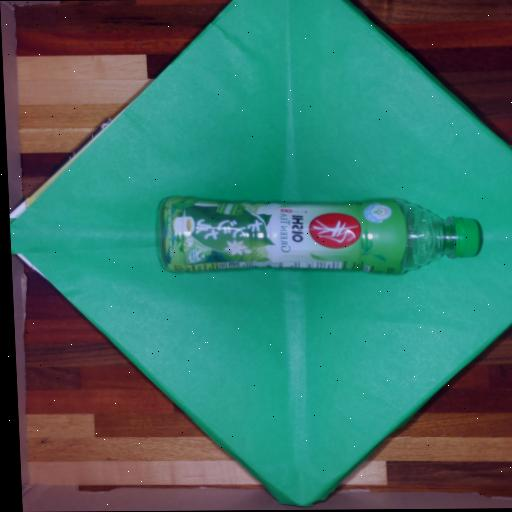bottle: (159, 198, 480, 273)
